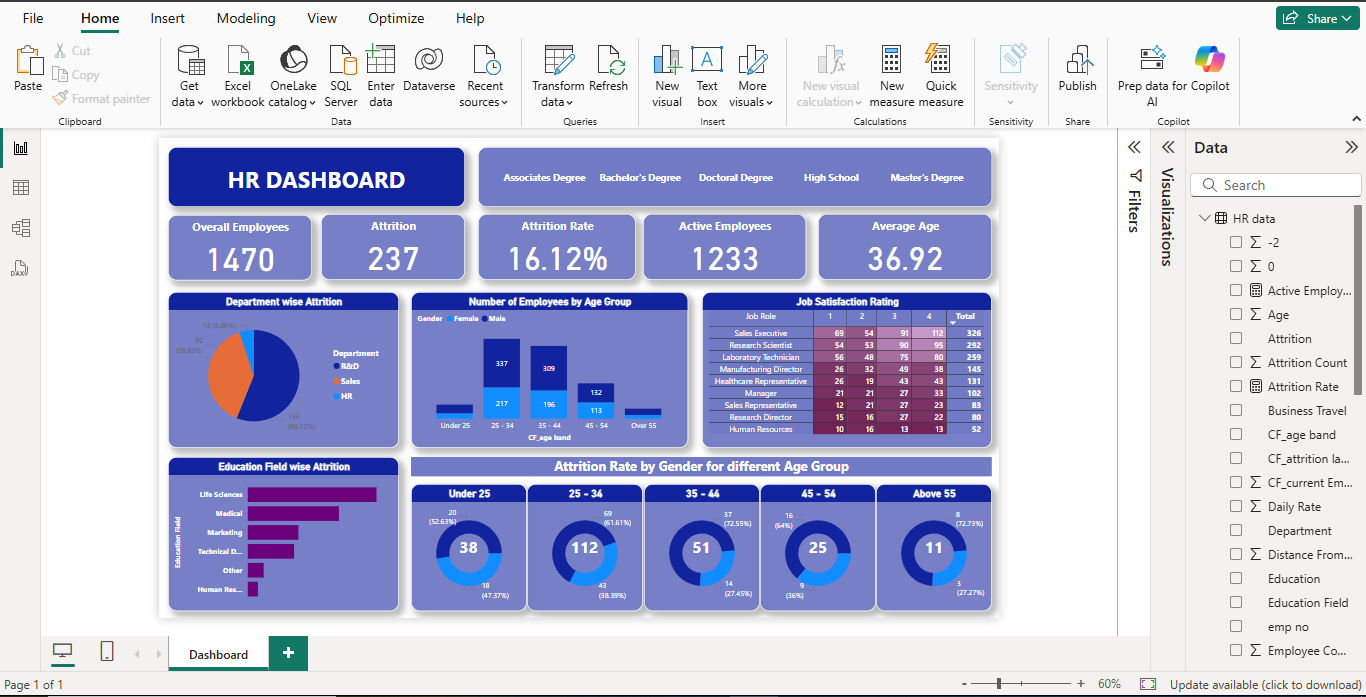

The dashboard page shown, as its layout file describes it:
{"tool":"powerbi","page":{"name":"Dashboard","canvas":[1400,800],"ordinal":0},"visuals":[{"type":"card","title":"Overall Employees","fields":{"Values":["Sum(HR data.Employee Count)"]},"box":[14.2,127.6,239.5,109.1],"z":0},{"type":"textbox","box":[15,15,495,100],"z":1000},{"type":"card","title":"Attrition","fields":{"Values":["Sum(HR data.Attrition Count)"]},"box":[270,127.1,240,110],"z":2000},{"type":"card","title":"Attrition Rate","fields":{"Values":["HR data.Attrition Rate"]},"box":[531.7,126.7,263.3,110],"z":3000},{"type":"card","title":"Active Employees","fields":{"Values":["HR data.Active Employees"]},"box":[806.7,126.7,271.7,110],"z":4000},{"type":"card","title":"Average Age","fields":{"Values":["Avg(HR data.Age)"]},"box":[1098.3,126.7,290,110],"z":5000},{"type":"pieChart","title":"Department wise Attrition","fields":{"Category":["HR data.Department"],"Y":["Sum(HR data.Attrition Count)"]},"box":[14.2,256.5,385,260],"z":6000},{"type":"columnChart","title":"Number of Employees by Age Group","fields":{"Category":["HR data.CF_age band"],"Y":["Sum(HR data.Employee Count)"],"Series":["HR data.Gender"]},"box":[420,256.7,461.7,260],"z":7000},{"type":"pivotTable","title":"Job Satisfaction Rating","fields":{"Columns":["HR data.Job Satisfaction"],"Rows":["HR data.Job Role"],"Values":["Sum(HR data.Employee Count)"]},"box":[905,256.7,483.3,260],"z":8000},{"type":"barChart","title":"Education Field wise Attrition","fields":{"Y":["Sum(HR data.Attrition Count)"],"Category":["HR data.Education Field"]},"box":[15,531.7,385,256.7],"z":9000},{"type":"donutChart","title":"Under 25","fields":{"Y":["Sum(HR data.Attrition Count)"],"Category":["HR data.Gender"],"Series":["HR data.CF_age band"]},"box":[420,576.7,193.3,211.7],"z":10000},{"type":"textbox","title":"Attrition Rate by Gender for different Age Group","box":[420,531.7,968.3,31.7],"z":11000},{"type":"donutChart","title":"25 - 34","fields":{"Y":["Sum(HR data.Attrition Count)"],"Category":["HR data.Gender"],"Series":["HR data.CF_age band"]},"box":[613.3,576.7,193.3,211.7],"z":12000},{"type":"donutChart","title":"35 - 44","fields":{"Y":["Sum(HR data.Attrition Count)"],"Category":["HR data.Gender"],"Series":["HR data.CF_age band"]},"box":[808.3,576.7,193.3,211.7],"z":13000},{"type":"donutChart","title":"45 - 54","fields":{"Y":["Sum(HR data.Attrition Count)"],"Category":["HR data.Gender"],"Series":["HR data.CF_age band"]},"box":[1001.7,576.7,193.3,211.7],"z":14000},{"type":"donutChart","title":"Above 55","fields":{"Y":["Sum(HR data.Attrition Count)"],"Category":["HR data.Gender"],"Series":["HR data.CF_age band"]},"box":[1195,576.7,193.3,211.7],"z":15000},{"type":"card","fields":{"Values":["Sum(HR data.Attrition Count)"]},"box":[485,665,61.7,35],"z":16000},{"type":"card","fields":{"Values":["Sum(HR data.Attrition Count)"]},"box":[678.3,665,61.7,35],"z":17000},{"type":"card","fields":{"Values":["Sum(HR data.Attrition Count)"]},"box":[873.3,665,61.7,35],"z":18000},{"type":"card","fields":{"Values":["Sum(HR data.Attrition Count)"]},"box":[1065,665,66.7,35],"z":19000},{"type":"card","fields":{"Values":["Sum(HR data.Attrition Count)"]},"box":[1258.3,665,66.7,35],"z":20000},{"type":"slicer","fields":{"Values":["HR data.Education"]},"box":[531.7,15,856.7,100],"z":21000}]}

Visuals, with their boxes on the page's 1400x800 design canvas (x1, y1, x2, y2). These are canvas units, not pixel positions in the 1366x697 screenshot, which may show the page scaled, cropped or inside an application window:
"Overall Employees" card: (14, 128, 254, 237)
textbox: (15, 15, 510, 115)
"Attrition" card: (270, 127, 510, 237)
"Attrition Rate" card: (532, 127, 795, 237)
"Active Employees" card: (807, 127, 1078, 237)
"Average Age" card: (1098, 127, 1388, 237)
"Department wise Attrition" pieChart: (14, 256, 399, 516)
"Number of Employees by Age Group" columnChart: (420, 257, 882, 517)
"Job Satisfaction Rating" pivotTable: (905, 257, 1388, 517)
"Education Field wise Attrition" barChart: (15, 532, 400, 788)
"Under 25" donutChart: (420, 577, 613, 788)
"Attrition Rate by Gender for different Age Group" textbox: (420, 532, 1388, 563)
"25 - 34" donutChart: (613, 577, 807, 788)
"35 - 44" donutChart: (808, 577, 1002, 788)
"45 - 54" donutChart: (1002, 577, 1195, 788)
"Above 55" donutChart: (1195, 577, 1388, 788)
card - Sum(HR data.Attrition Count): (485, 665, 547, 700)
card - Sum(HR data.Attrition Count): (678, 665, 740, 700)
card - Sum(HR data.Attrition Count): (873, 665, 935, 700)
card - Sum(HR data.Attrition Count): (1065, 665, 1132, 700)
card - Sum(HR data.Attrition Count): (1258, 665, 1325, 700)
slicer - HR data.Education: (532, 15, 1388, 115)
